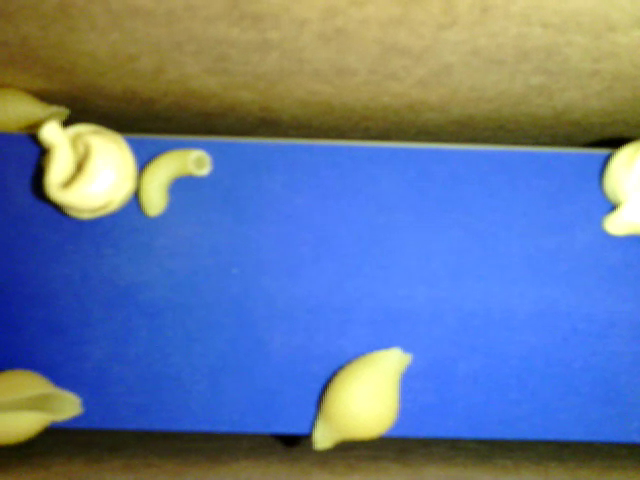elbow: (137, 145, 215, 221)
shell: (306, 339, 424, 456), (2, 362, 91, 446), (2, 95, 78, 135)
tortellini: (33, 118, 137, 224), (598, 135, 638, 240)
